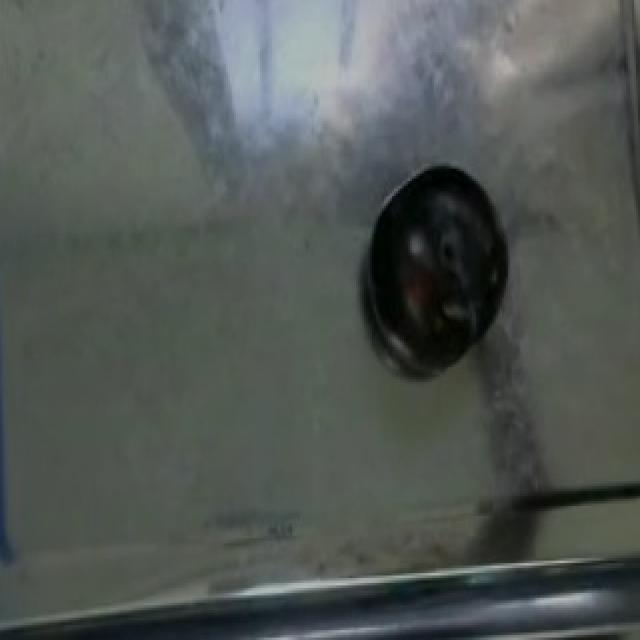Fruit: (366, 154, 512, 347)
